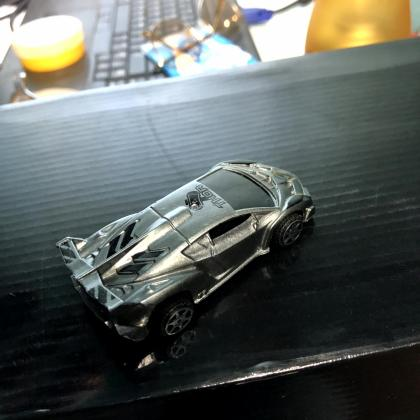Car: (56, 162, 315, 344)
